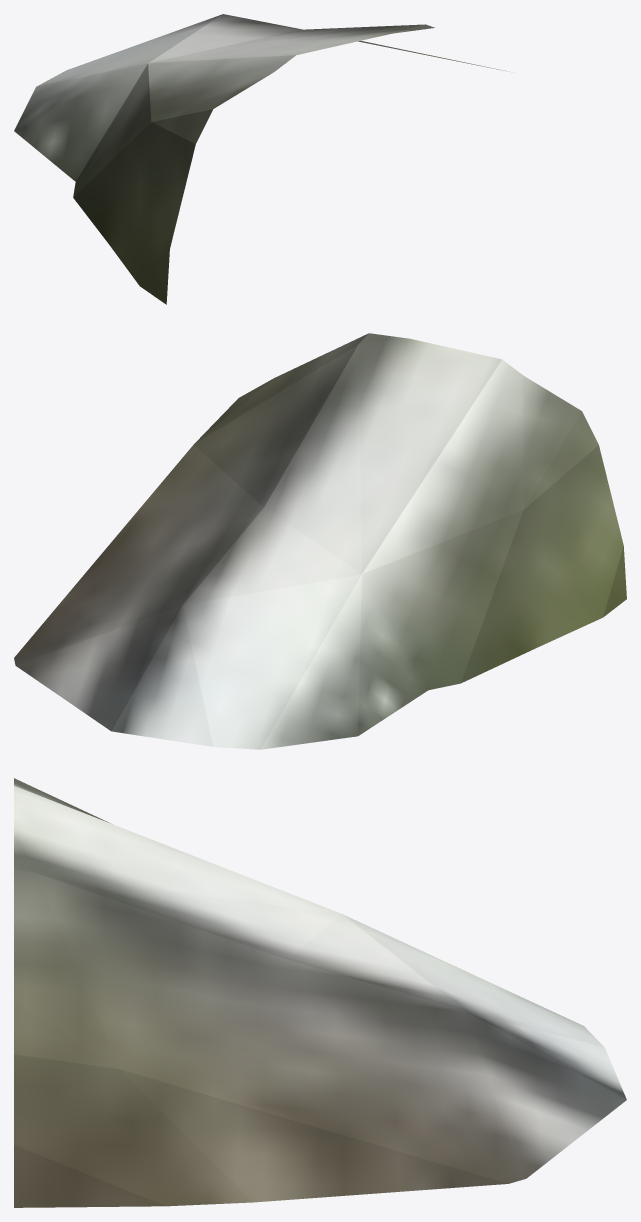
3 renders of one model, top to bottom at view 1: azimuth 30°, elevation 25°; view 2: azimuth 150°, elevation 25°; view 3: azimuth 270°, elevation 25°, orthographic. The views are drawn at different scales.
Size of the model in its own units: 0.2501 by 0.1129 by 0.2586.
1 material, 1 textured.
